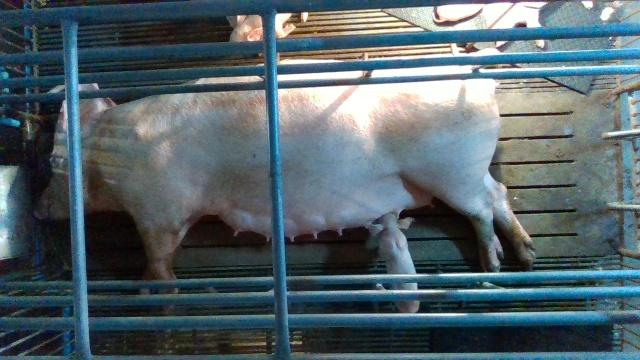piglet: (368, 212, 421, 316), (488, 1, 549, 48), (229, 12, 309, 42), (429, 4, 485, 25)
sow-sleep-lactate: (32, 59, 537, 309)
